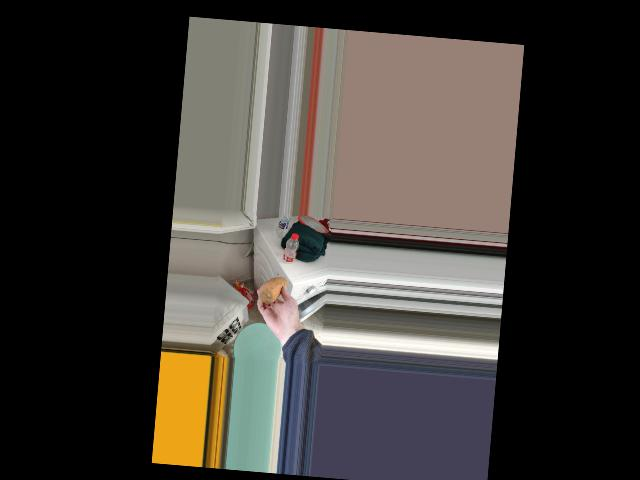sweet_potato: (260, 275, 290, 309)
